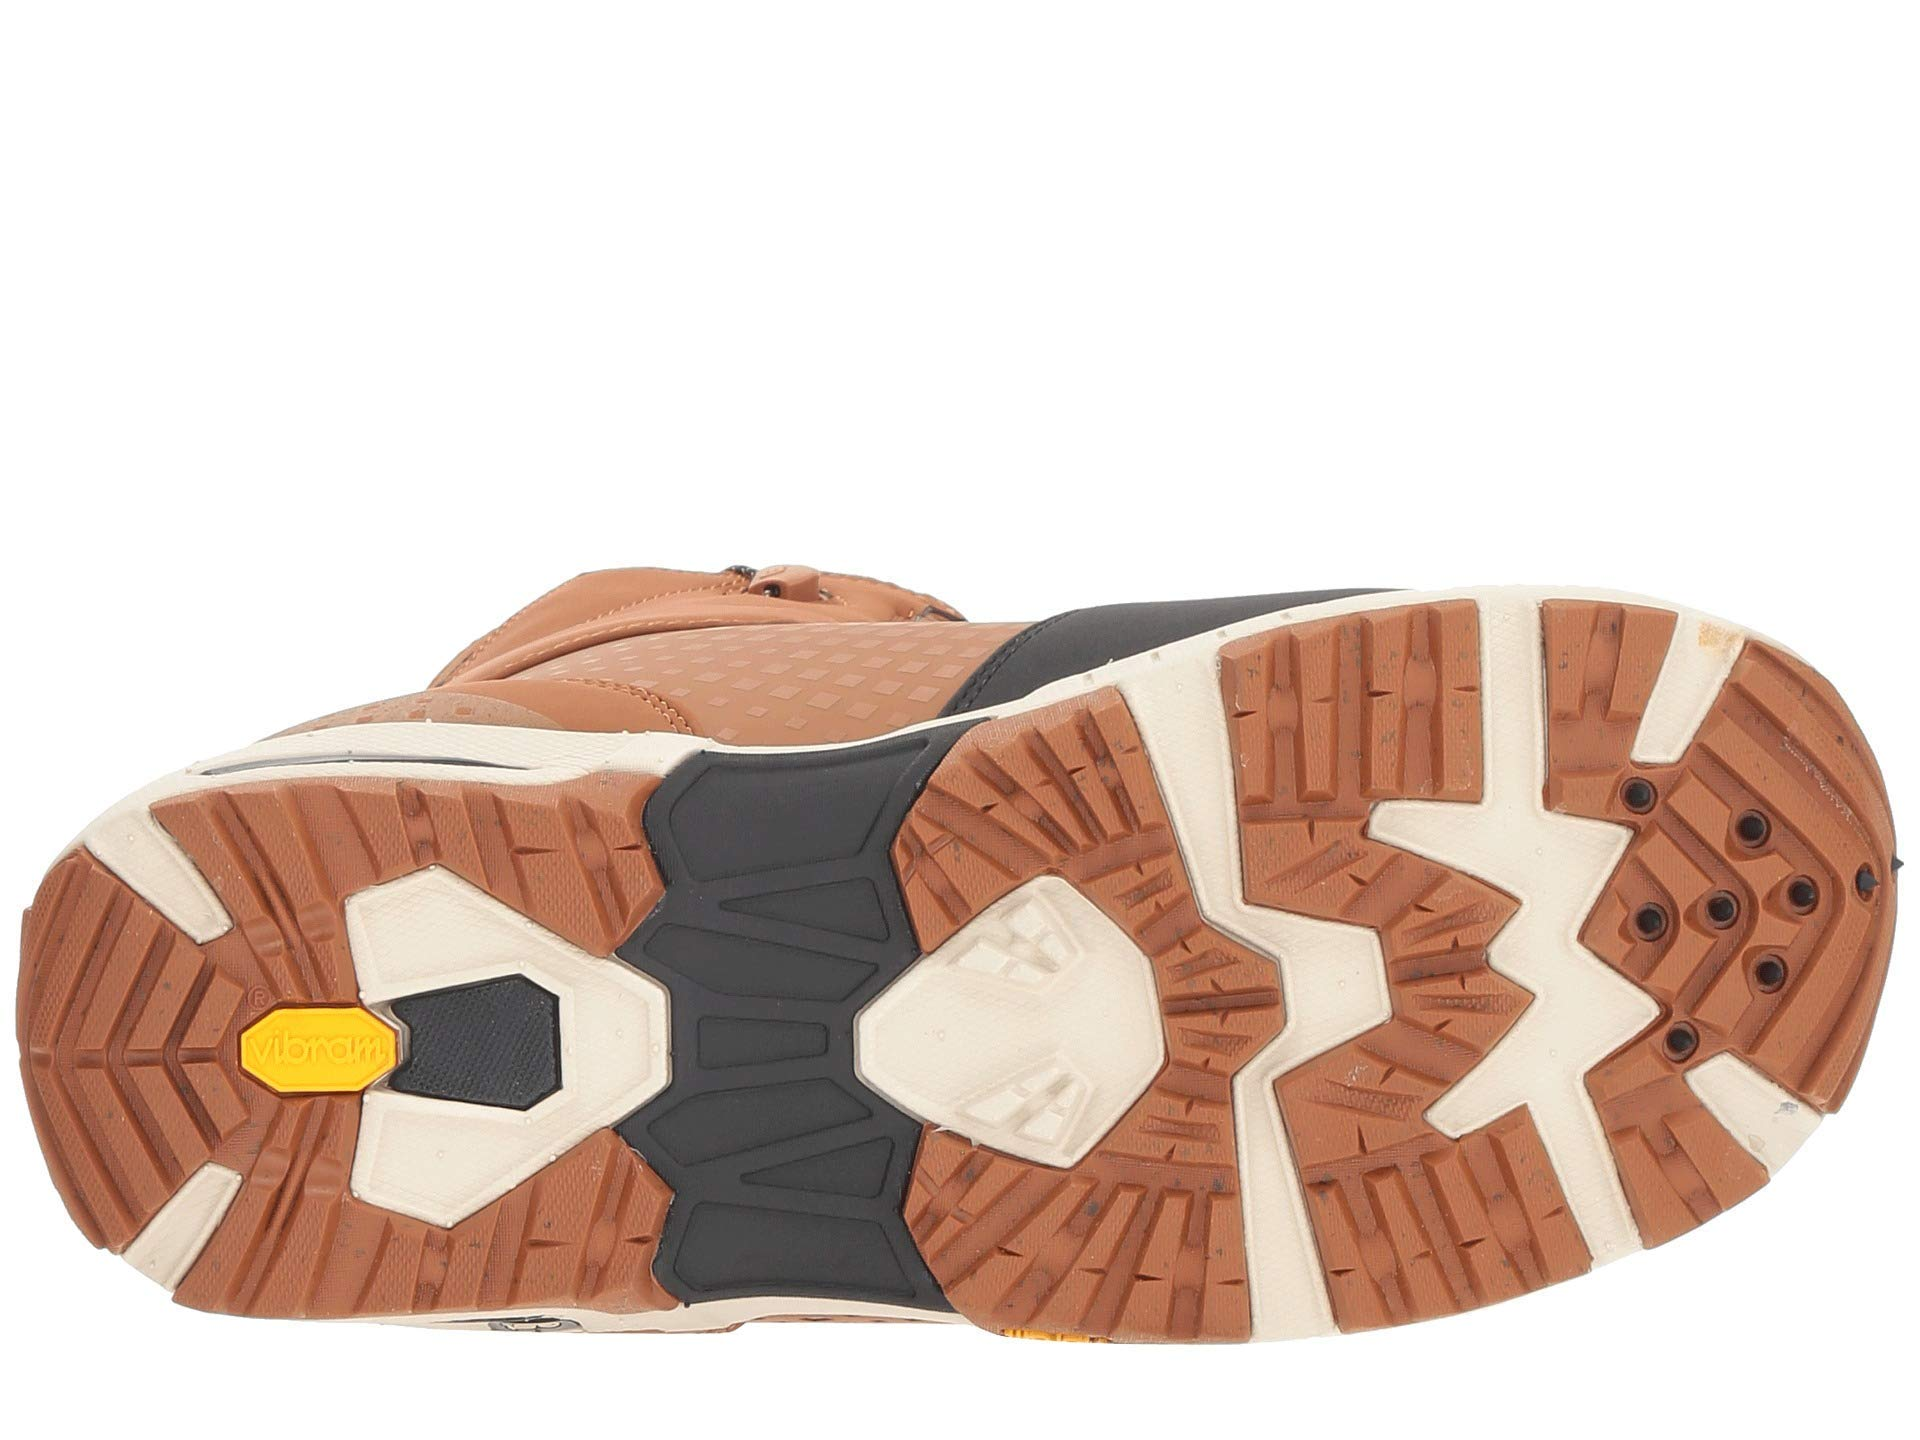chevron: (1603, 743, 1896, 1092)
circle: (1603, 743, 1896, 1092), (230, 995, 408, 1100)
line: (1092, 826, 1494, 1201), (38, 874, 200, 1258)
polygon: (665, 728, 937, 1324), (230, 995, 408, 1100)
quad: (1092, 826, 1494, 1201), (38, 874, 200, 1258)
text: (230, 995, 408, 1100)
triangle: (665, 728, 937, 1324)
